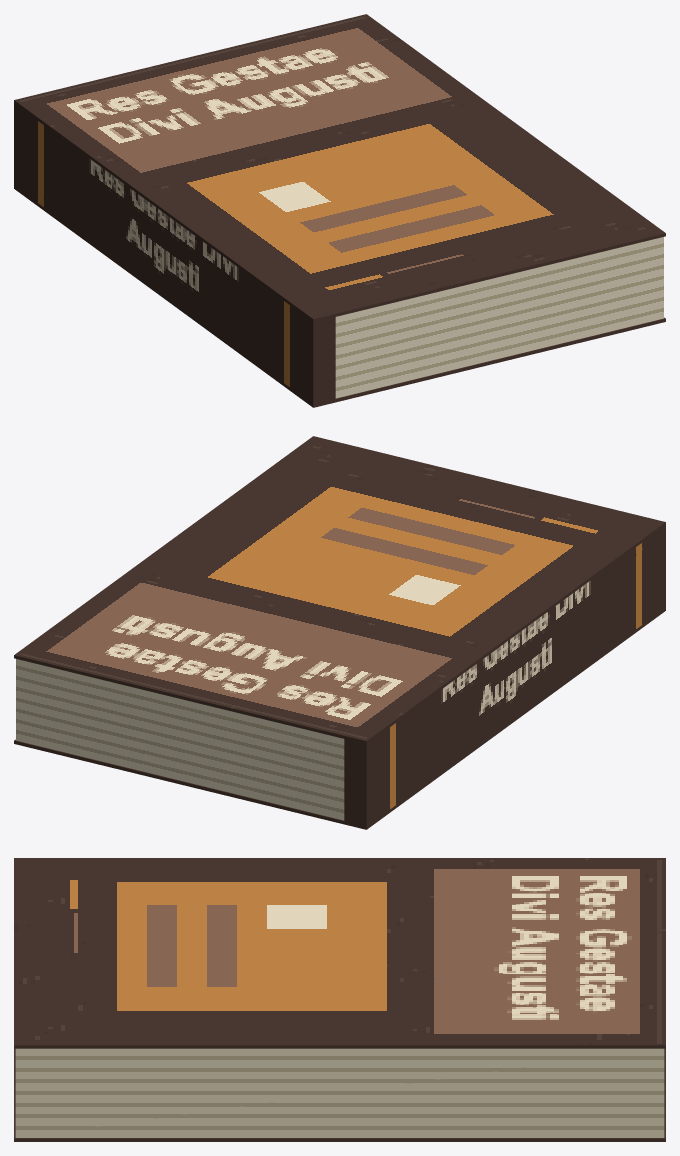
Rendered from holybook_romancult.glb.
3 views of the same model, one above another, from view 1: azimuth 30°, elevation 25°; view 2: azimuth 150°, elevation 25°; view 3: azimuth 270°, elevation 25° (orthographic). The views are drawn at different scales.
Visible parts, largest first — view 1: block_front cover, block_page block, block_spine, block_back cover; view 2: block_front cover, block_page block, block_spine, block_back cover; view 3: block_front cover, block_page block, block_back cover.
Part boxes in pixels (x1,y1,x2,y2): block_front cover: (14, 14, 665, 322); block_page block: (335, 237, 663, 398); block_spine: (14, 103, 335, 404); block_back cover: (14, 186, 665, 407); block_front cover: (14, 436, 665, 744); block_page block: (16, 659, 344, 820); block_spine: (344, 525, 665, 826); block_back cover: (14, 608, 665, 829); block_front cover: (14, 858, 665, 1048); block_page block: (15, 1048, 664, 1137); block_back cover: (14, 1048, 665, 1141).
Size of the model in its own units: 0.1414 by 0.034 by 0.208.
Materials: 1 (1 with a texture image).
